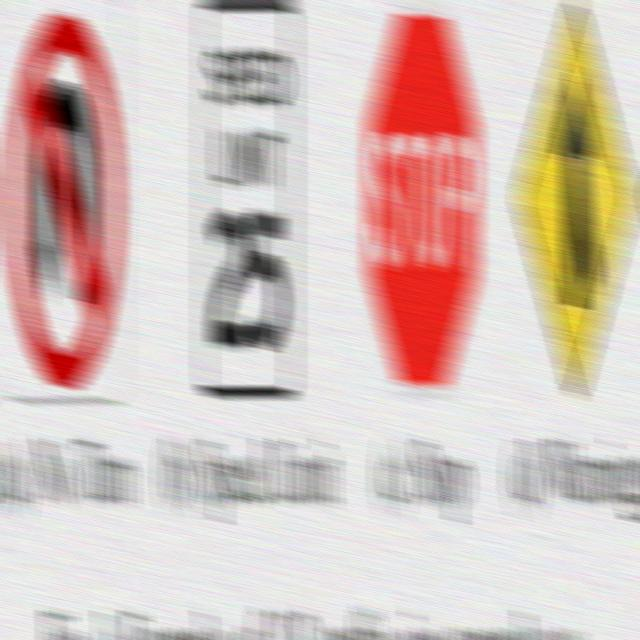speedLimit25: (196, 5, 300, 404)
